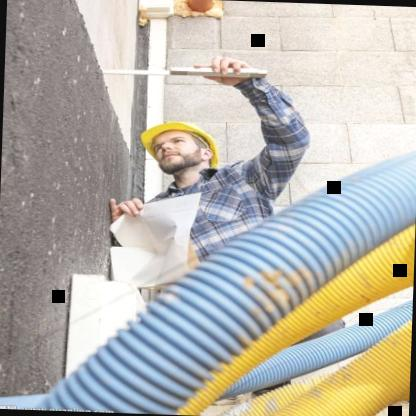helmet: (129, 108, 230, 186)
